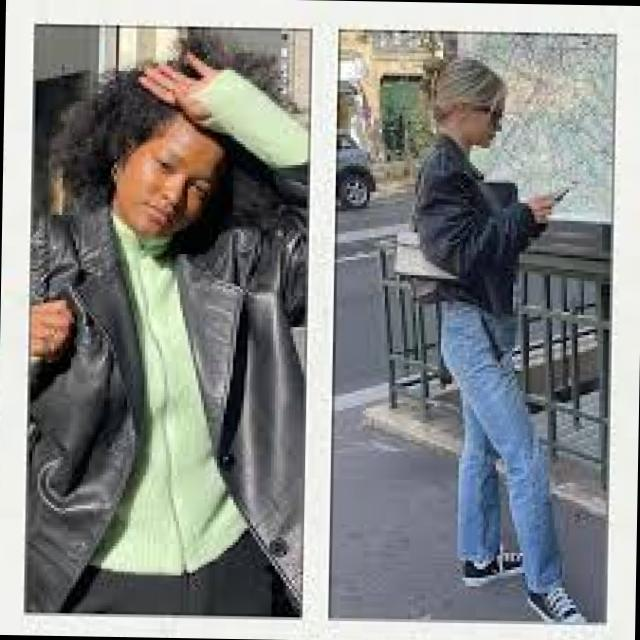Jacket: (0, 216, 319, 639), (402, 136, 560, 345)
